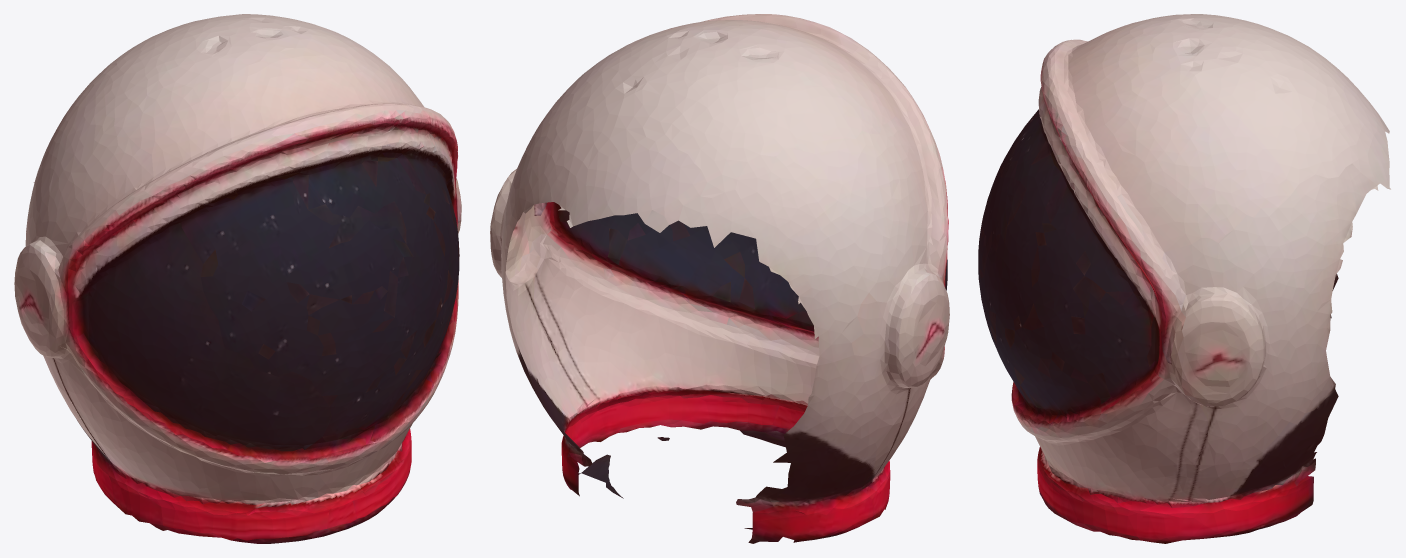
Rendered from astro-head-mars.glb.
The picture shows the model from 3 angles, left to right: view 1: azimuth 30°, elevation 25°; view 2: azimuth 150°, elevation 25°; view 3: azimuth 270°, elevation 25°; orthographic projection. The views are drawn at different scales.
Parts seen in each view (by area): view 1: tmp34g0m7c8ply003001001; view 2: tmp34g0m7c8ply003001001; view 3: tmp34g0m7c8ply003001001.
Boxes of the visible parts, box(x1,y1,x2,y2) form: tmp34g0m7c8ply003001001: box(14, 14, 461, 543); tmp34g0m7c8ply003001001: box(490, 14, 949, 543); tmp34g0m7c8ply003001001: box(978, 14, 1390, 543).
Size of the model in its own units: 0.9222 by 0.9489 by 0.7861.
1 material, 1 textured.
